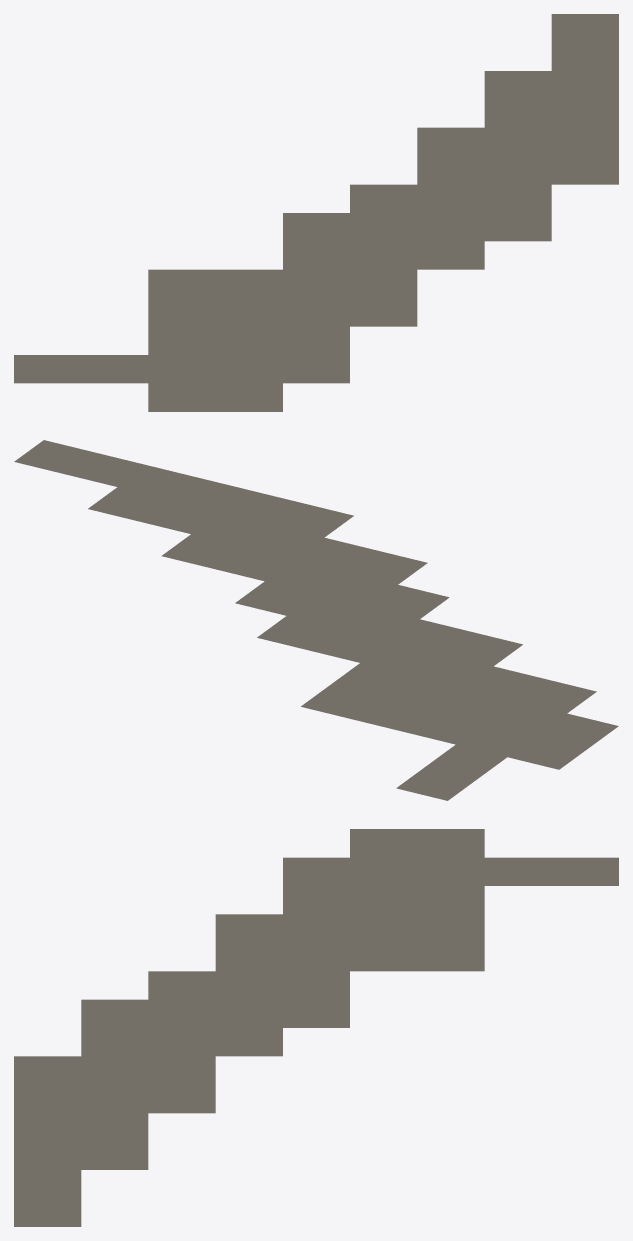
Rendered from Isl-atoll3-RocksArea.fbx.
3 renders of one model, top to bottom at view 1: azimuth 90°, elevation 25°; view 2: azimuth 150°, elevation 25°; view 3: azimuth 270°, elevation 25°, orthographic. The views are drawn at different scales.
Visible parts, largest first — view 1: Isl-atoll3-RocksArea; view 2: Isl-atoll3-RocksArea; view 3: Isl-atoll3-RocksArea.
Part boxes in pixels (x1,y1,x2,y2): Isl-atoll3-RocksArea: [14, 14, 618, 411]; Isl-atoll3-RocksArea: [14, 440, 618, 800]; Isl-atoll3-RocksArea: [14, 829, 618, 1226].
Bounding box in the file's own units: 14 × 0 × 9.
